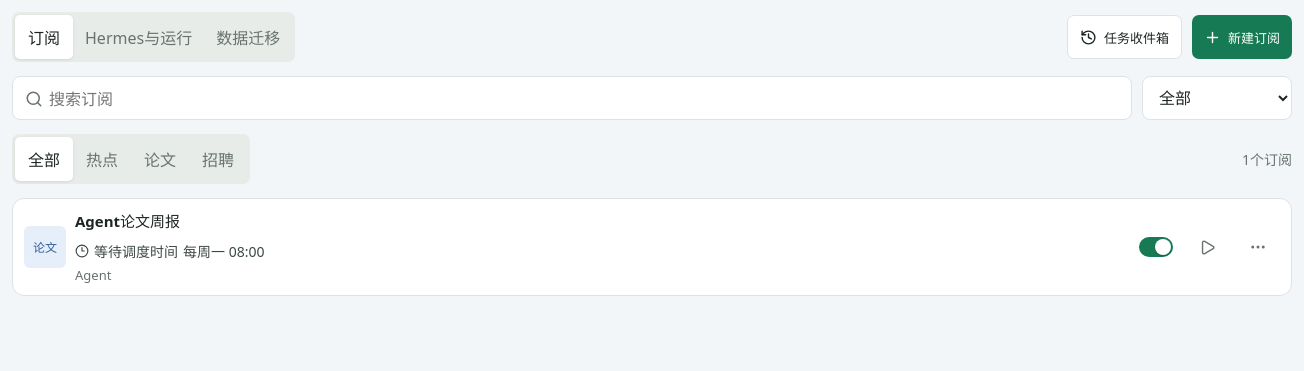
Test: 立即执行后宣布任务已提交
Expected: the heading "Agent论文周报" is shown, left=75, top=211, right=180, bottom=231
Click the button named "立即执行Agent论文周报": (1207, 247) left=1185, top=225, right=1229, bottom=269
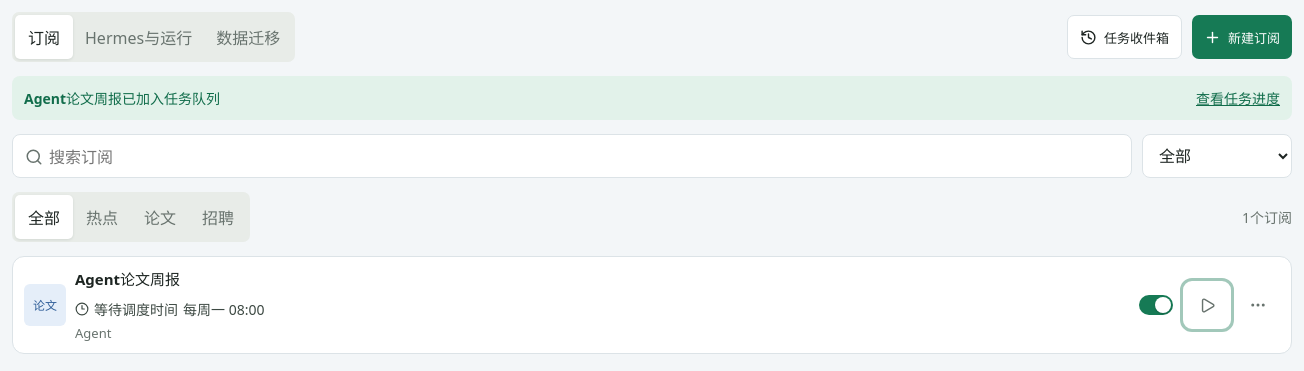
Expected: the text "Agent论文周报已加入任务队列" is shown, left=24, top=88, right=220, bottom=108
